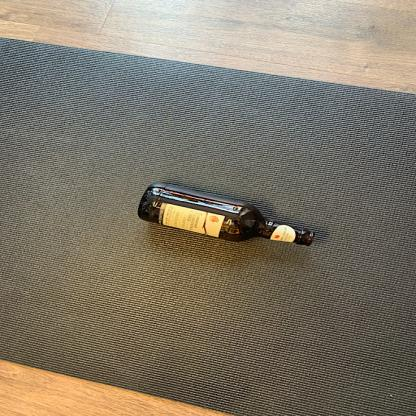trash: (138, 182, 316, 248)
